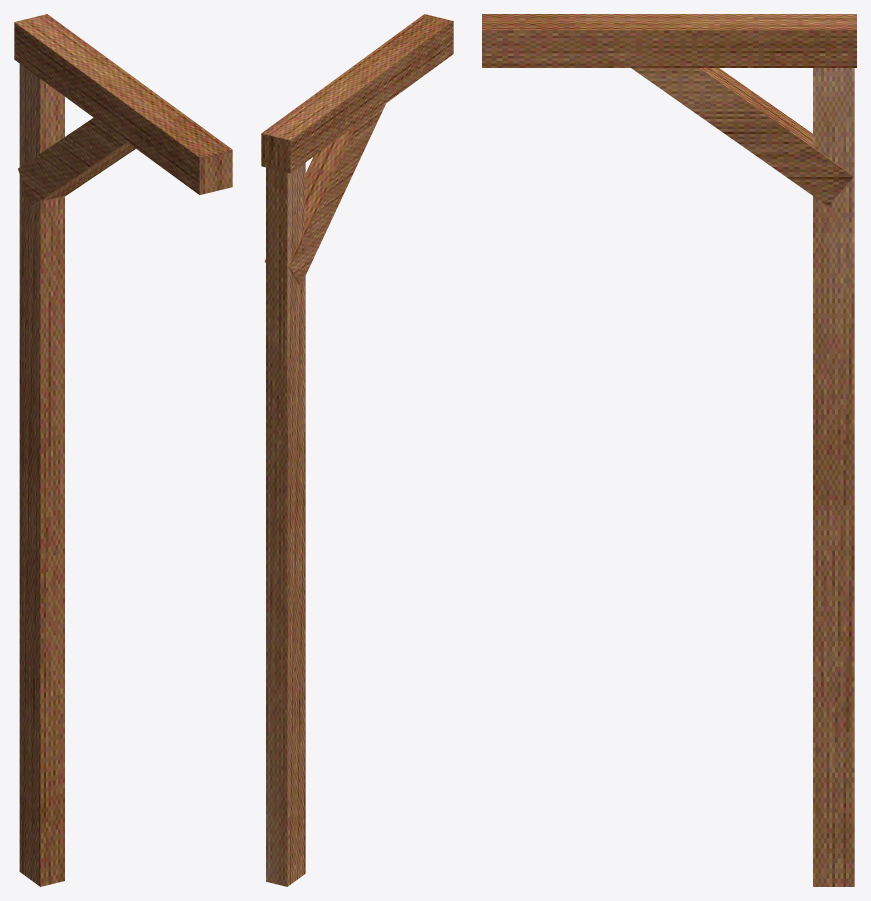
The model's file is lanternpostmodel.fbx.
3 renders of one model, left to right at view 1: azimuth 30°, elevation 25°; view 2: azimuth 150°, elevation 25°; view 3: azimuth 270°, elevation 25°, orthographic. The views are drawn at different scales.
Parts seen in each view (by area): view 1: pCube4; view 2: pCube4; view 3: pCube4.
Part boxes in pixels (<box>): pCube4: <box>14,14,232,886</box>; pCube4: <box>261,14,453,886</box>; pCube4: <box>482,14,856,886</box>.
Bounding box in the file's own units: 0.153 × 3.75 × 1.48.
1 material, 1 textured.
